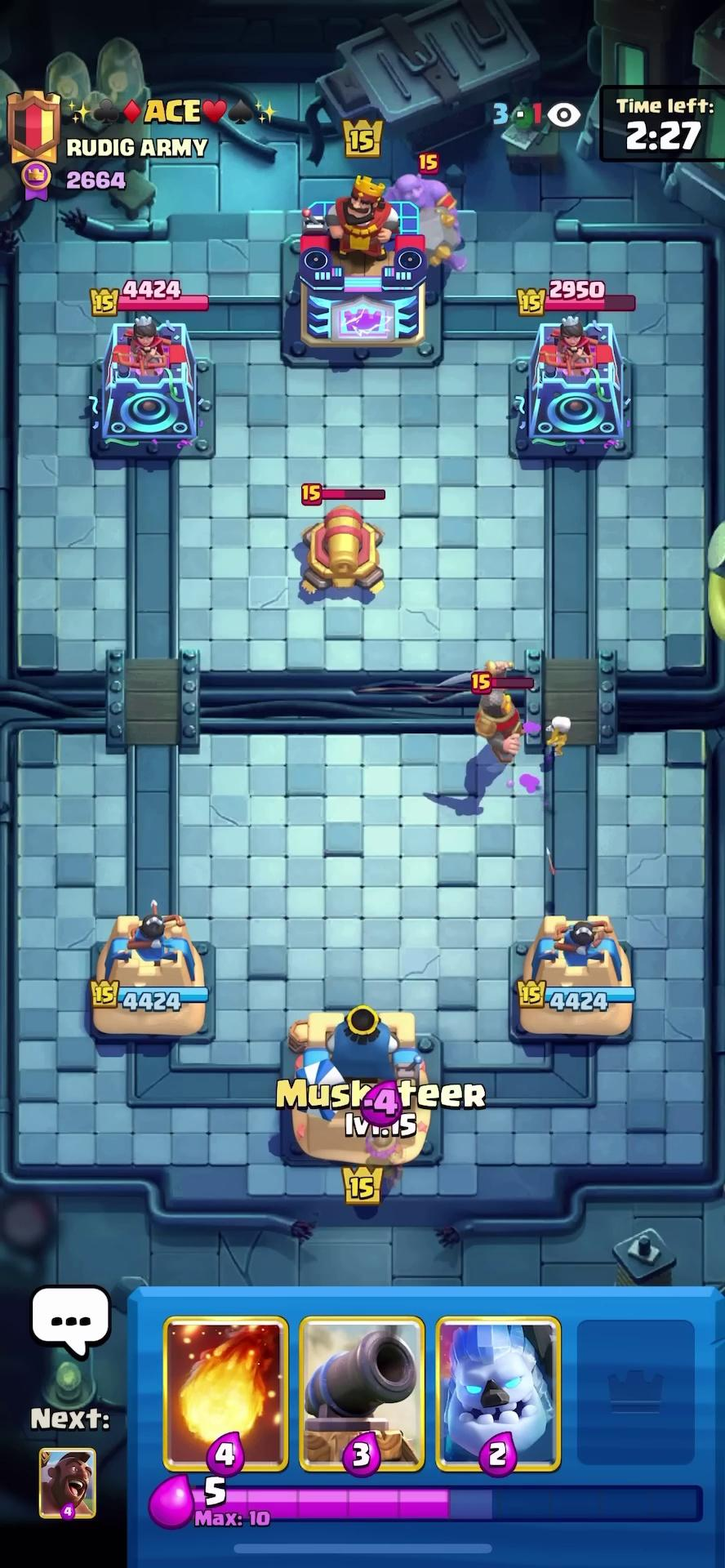skeletons: (533, 694, 586, 764)
